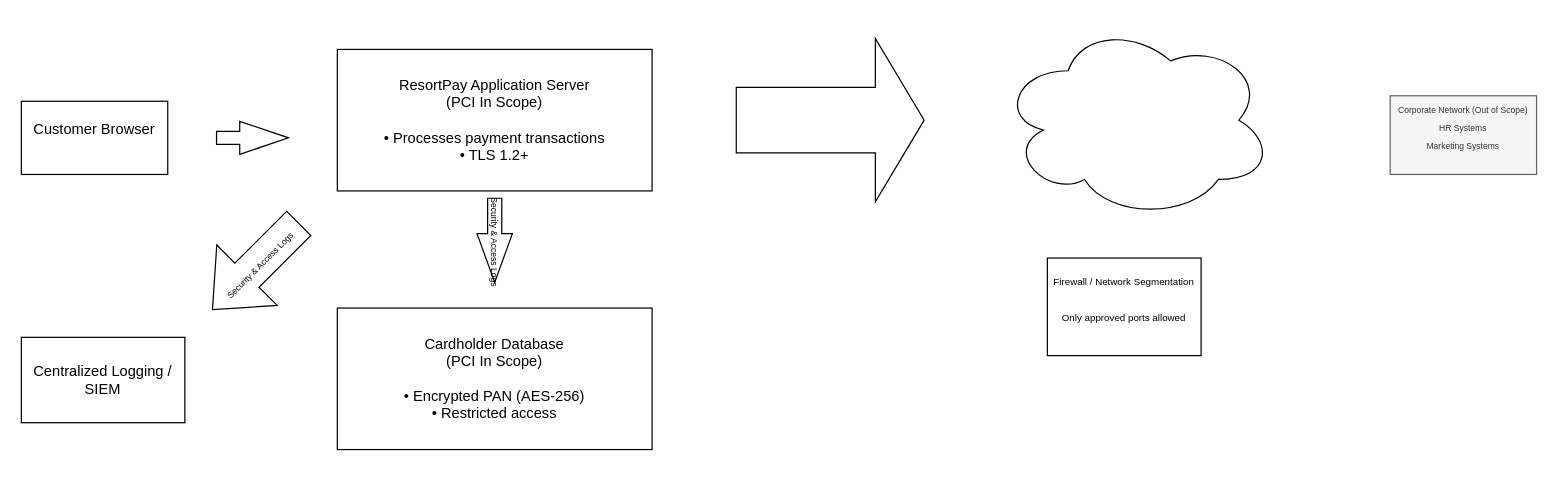
This 1558x479 diagram has some shape labels left out. Here are the shapes that lost their labels. From the top down, the centre of each, then its label:
At point (829, 119): "Encrypted Payment Transmission".
At point (1136, 119): "Payment Gateway (3rd Party) PCI DSS Compliant".
